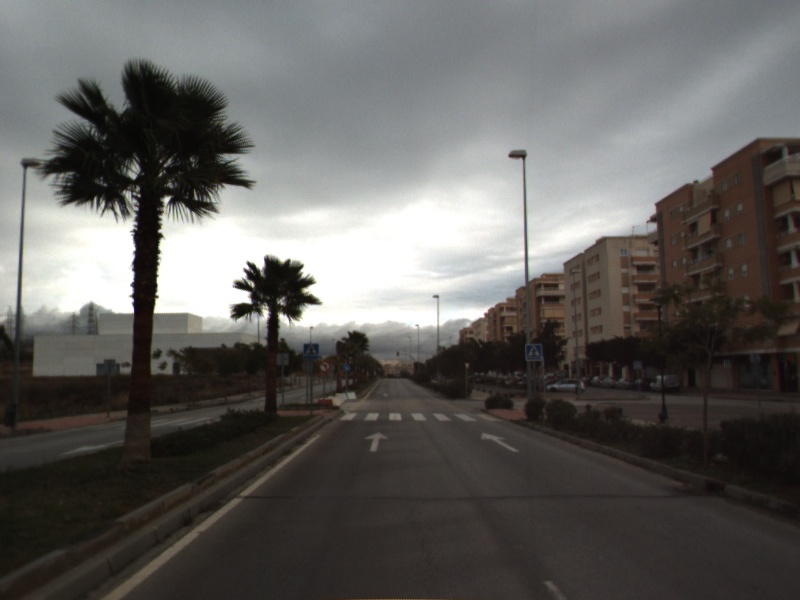STRAIGHT: (479, 430, 522, 454), (363, 429, 391, 453)
